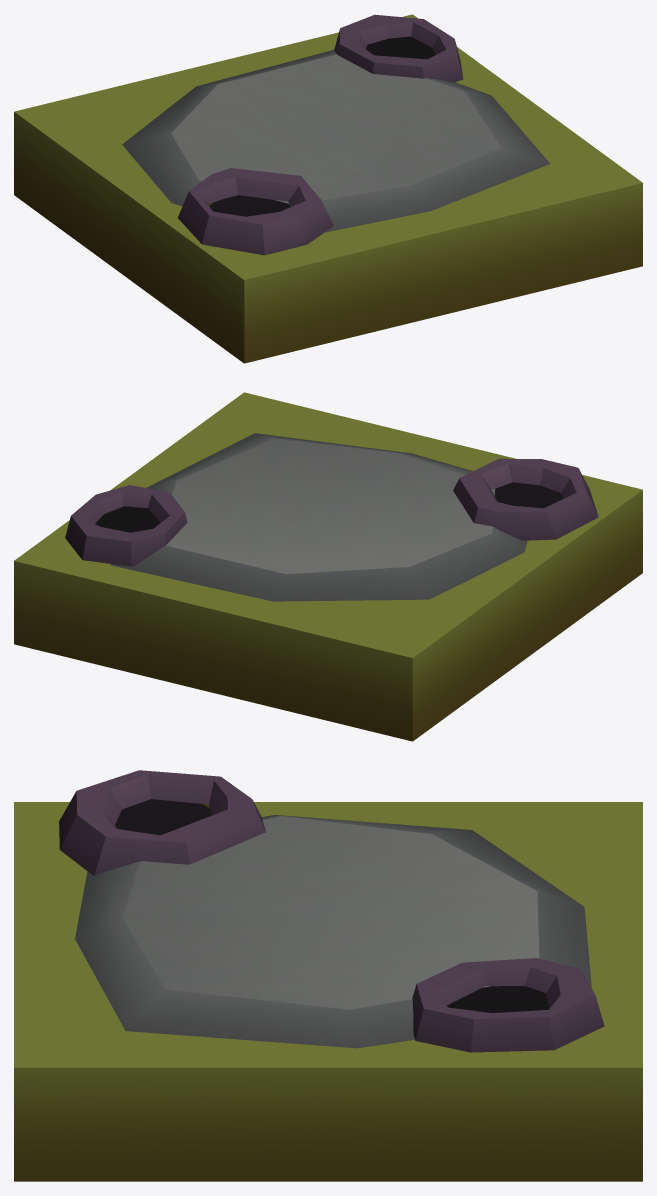
File: tileBase3_mesh.fbx
3 renders of one model, top to bottom at view 1: azimuth 30°, elevation 25°; view 2: azimuth 150°, elevation 25°; view 3: azimuth 270°, elevation 25°, orthographic. The views are drawn at different scales.
Visible parts, largest first — view 1: tileBase1_mesh, polySurface1; view 2: tileBase1_mesh, polySurface1; view 3: tileBase1_mesh, polySurface1.
Part boxes in pixels (x1,y1,x2,y2): tileBase1_mesh: (14,14,642,363); polySurface1: (178,14,463,255); tileBase1_mesh: (14,392,642,741); polySurface1: (65,458,598,566); tileBase1_mesh: (14,802,642,1181); polySurface1: (59,770,604,1052).
Size of the model in its own units: 100 by 26.84 by 100.
2 materials, 2 textured.
